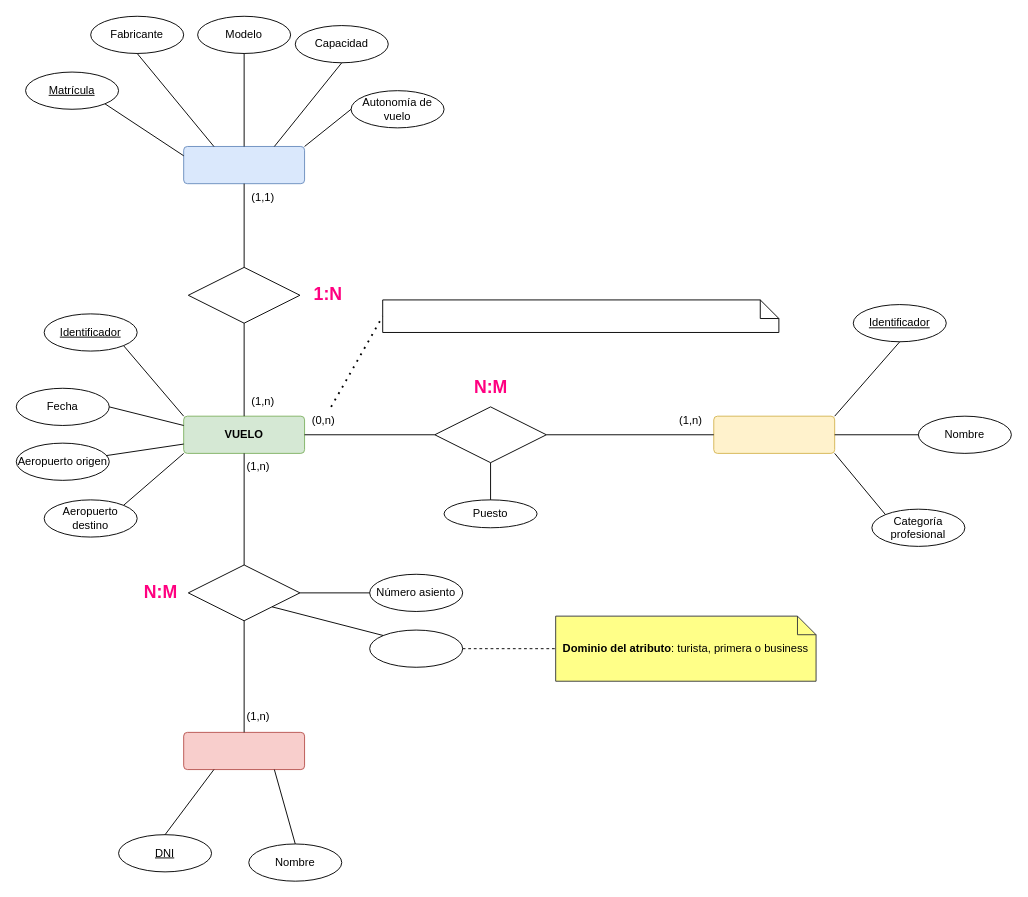
Some shapes in this 1028 by 897 pixel diagram are drawn without their labels. The shapes that lost their labels are listed below. From the top down, each one's box as (x1, y1, x2, y2) in pixels, then its label:
(183, 146, 305, 184): AVIÓN
(187, 266, 300, 323): Realizar
(382, 299, 779, 332): Cardinalidad mínima 0: Personal de la comañía, que no sea tripulante
(434, 406, 546, 463): Asignar
(713, 415, 835, 453): PERSONAL
(187, 564, 300, 621): Pertenecer
(369, 629, 463, 667): Clase
(183, 731, 305, 770): PASAJERO
